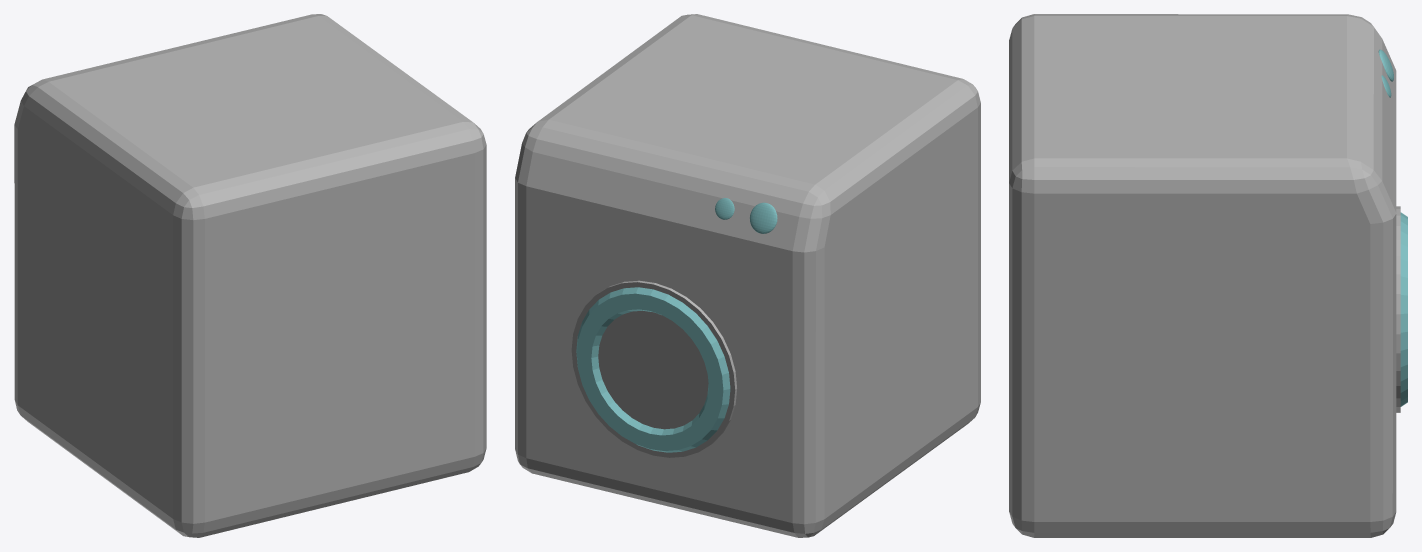
File: Char_Head1a.fbx
The picture shows the model from 3 angles, left to right: view 1: azimuth 30°, elevation 25°; view 2: azimuth 150°, elevation 25°; view 3: azimuth 270°, elevation 25°; orthographic projection. The views are drawn at different scales.
Visible parts, largest first — view 1: Cylinder; view 2: Cylinder; view 3: Cylinder.
Boxes of the visible parts, <box> form: Cylinder: <box>14,14,486,537</box>; Cylinder: <box>515,14,980,537</box>; Cylinder: <box>1009,14,1407,537</box>.
Size of the model in its own units: 56.02 by 60.22 by 57.67.
